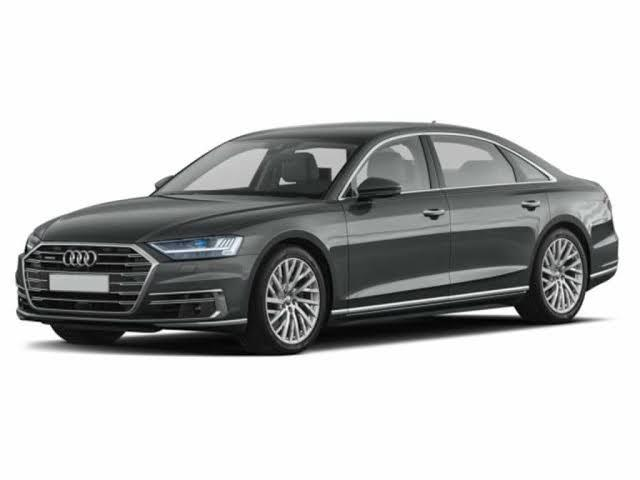audi: (6, 121, 624, 359)
